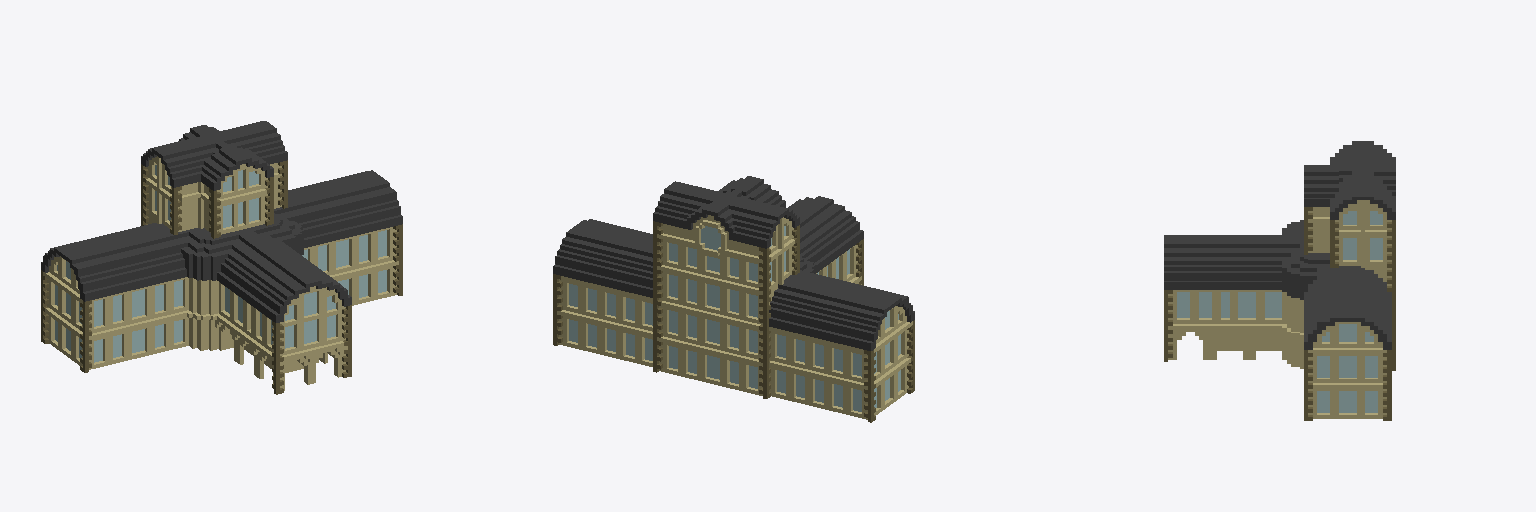
3 views of the same model, side by side, from view 1: azimuth 30°, elevation 25°; view 2: azimuth 150°, elevation 25°; view 3: azimuth 270°, elevation 25° (orthographic).
Visible parts, largest first — view 1: French_T; view 2: French_T; view 3: French_T.
Boxes of the visible parts, x1,y1,x2,y2 form: French_T: [41, 121, 402, 394]; French_T: [553, 176, 914, 422]; French_T: [1164, 141, 1395, 420].
Size of the model in its own units: 84 by 44 by 53.
1 materials, 1 textured.